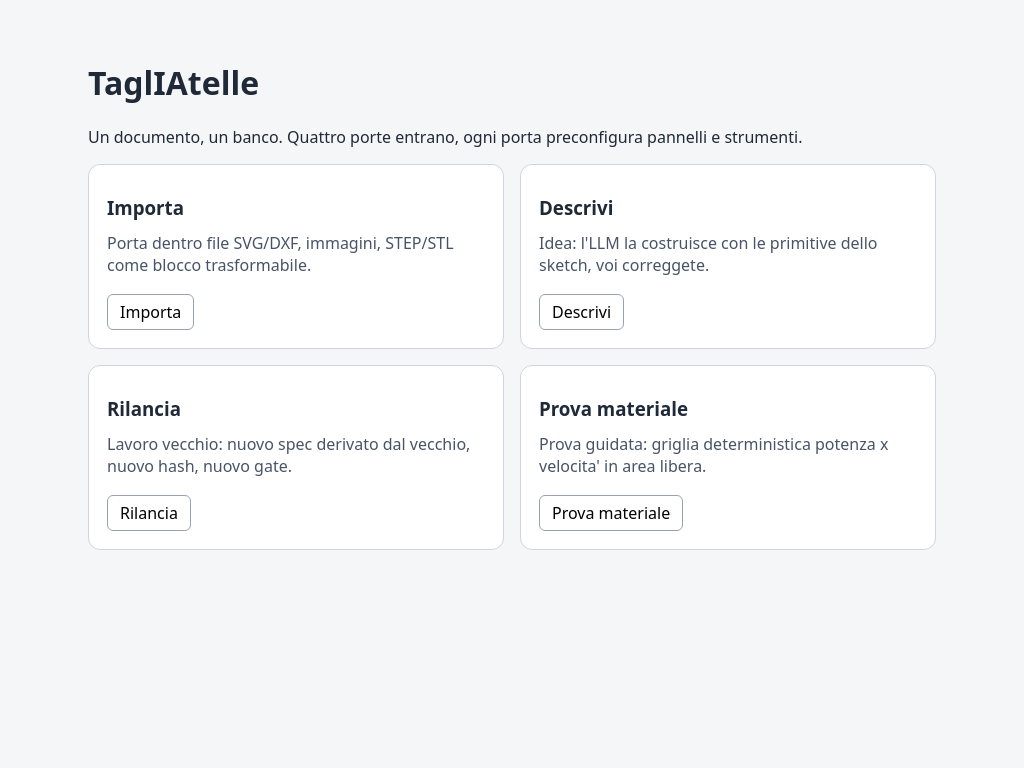
four doors -> one workbench › the back button returns to the four doors
Click the button "Importa".
click(151, 312)  # box [107,294,194,330]
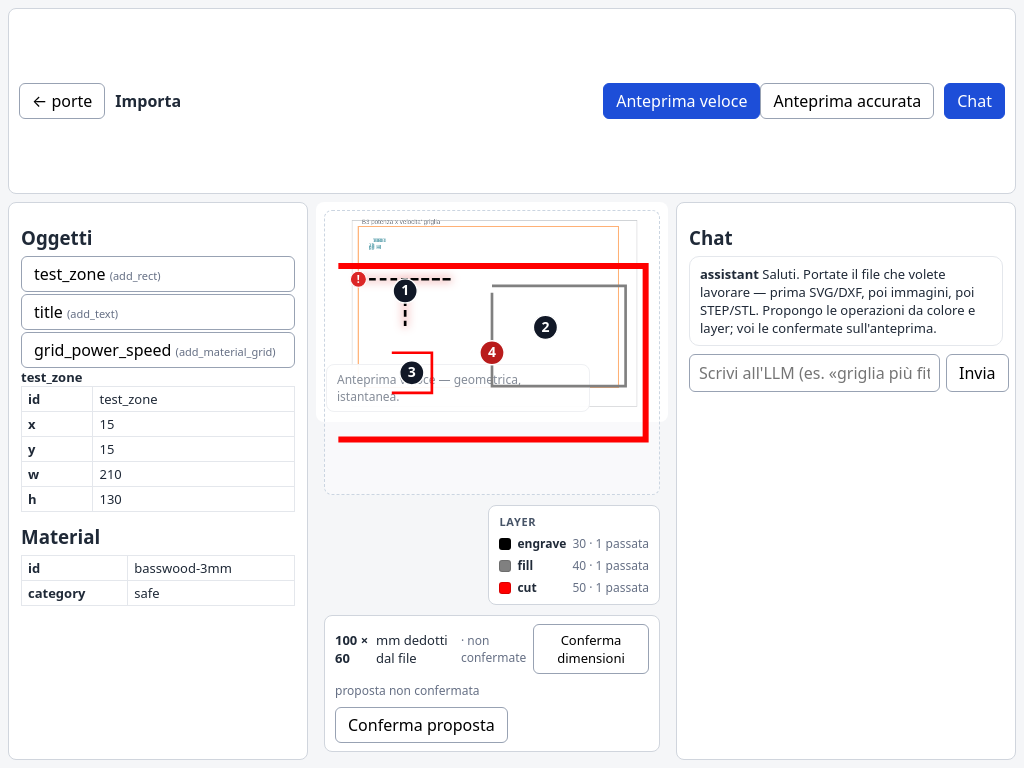
Now the element with test id "workbench" is shown
Click the button with test id "back".
click(62, 101)  # box [19,83,105,119]
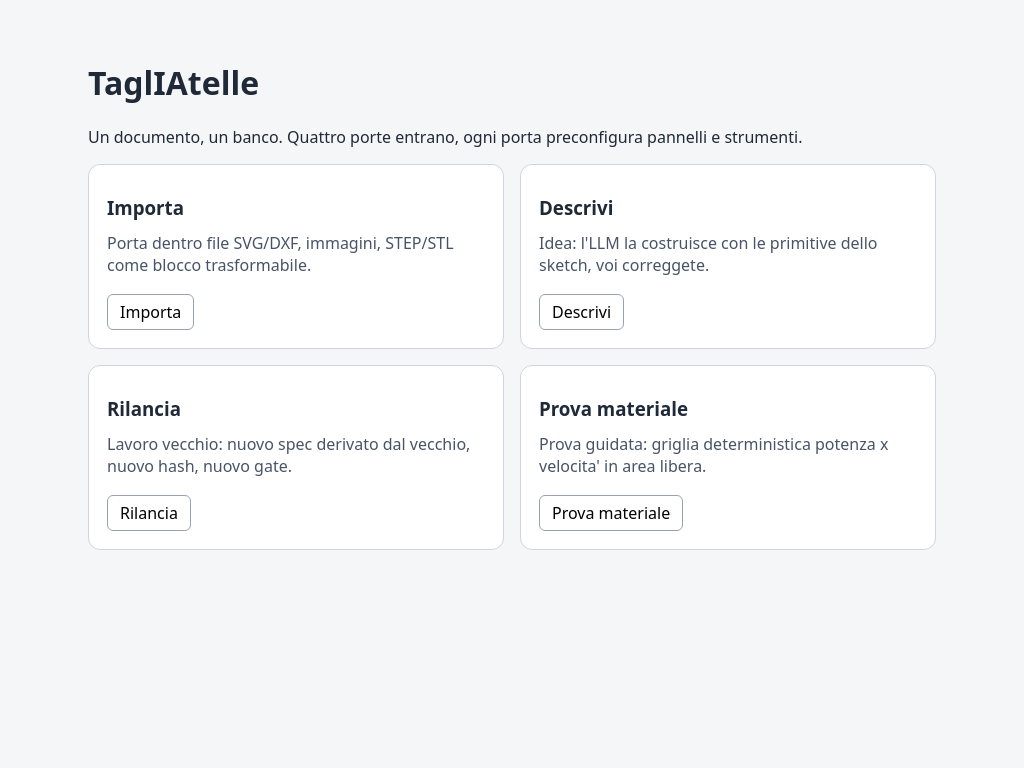
Now the element with test id "door-import" is shown, box [88,164,504,349]
Now the element with test id "workbench" is gone
